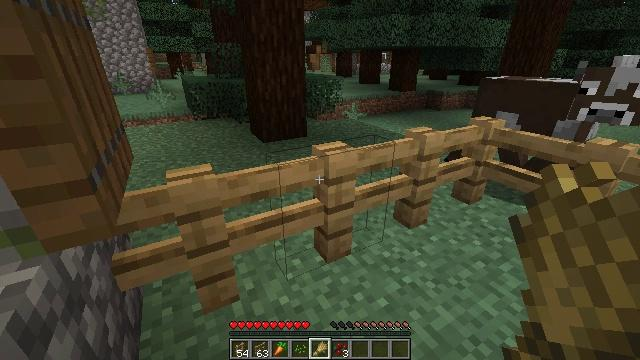cow: (476, 59, 639, 175)
